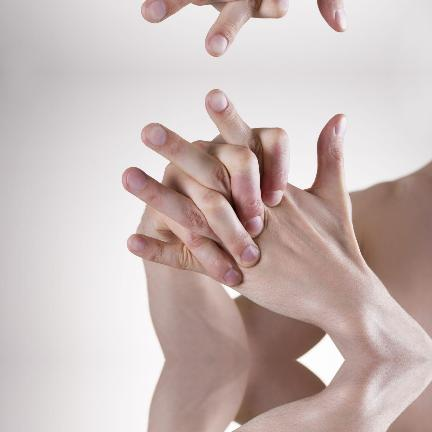Nail: (146, 123, 167, 145), (146, 0, 167, 21), (208, 89, 228, 111), (208, 33, 228, 55), (127, 168, 147, 189), (246, 216, 264, 236), (241, 245, 259, 264), (224, 268, 242, 286), (265, 189, 283, 206), (335, 116, 348, 137), (335, 7, 348, 28), (130, 236, 147, 252)
